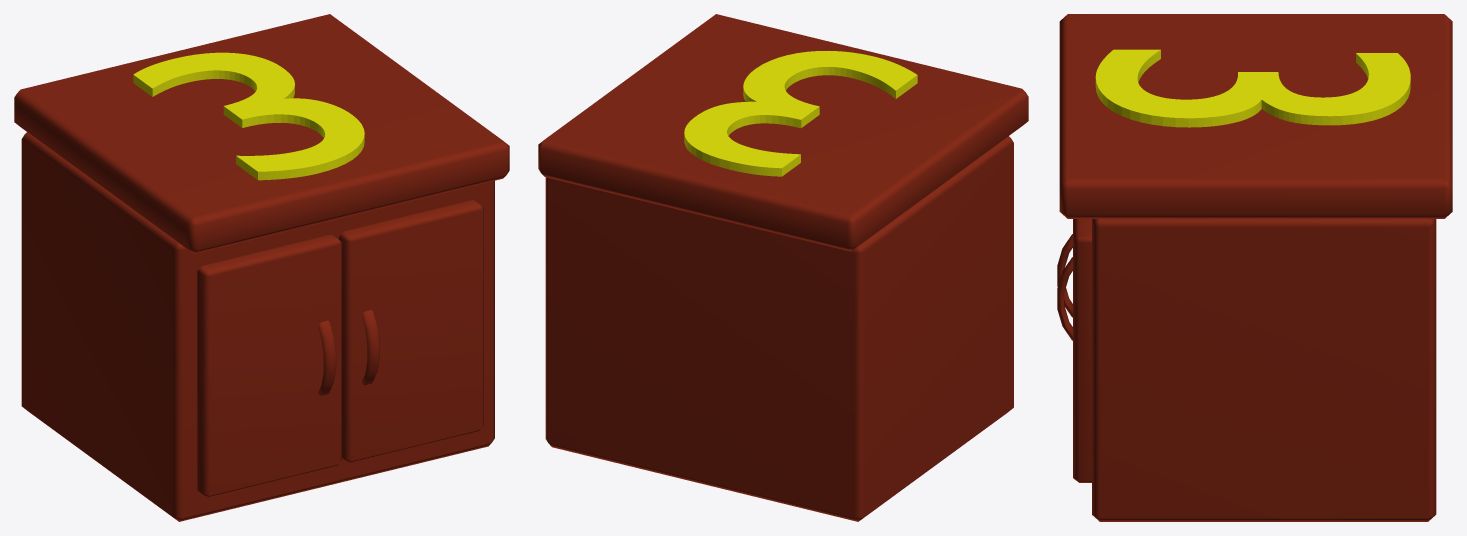
3 views of the same model, side by side, from view 1: azimuth 30°, elevation 25°; view 2: azimuth 150°, elevation 25°; view 3: azimuth 270°, elevation 25° (orthographic). The views are drawn at different scales.
Visible parts, largest first — view 1: Cube.007, Text.002; view 2: Cube.007, Text.002; view 3: Cube.007, Text.002.
Part boxes in pixels (x1,y1,x2,y2): Cube.007: [14, 14, 509, 521]; Text.002: [133, 52, 364, 180]; Cube.007: [538, 14, 1028, 521]; Text.002: [684, 51, 917, 176]; Cube.007: [1057, 14, 1452, 521]; Text.002: [1095, 49, 1410, 127].
Bounding box in the file's own units: 89.87 × 86.59 × 87.83.
